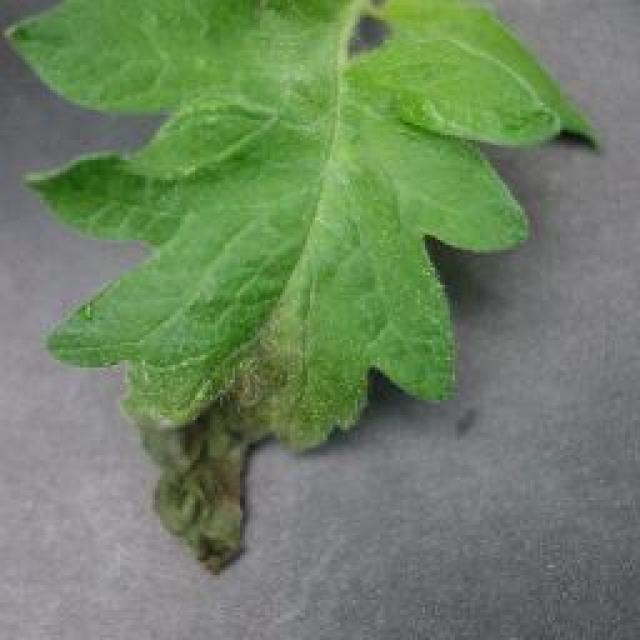Tomato___Late_blight: (0, 0, 602, 584)
